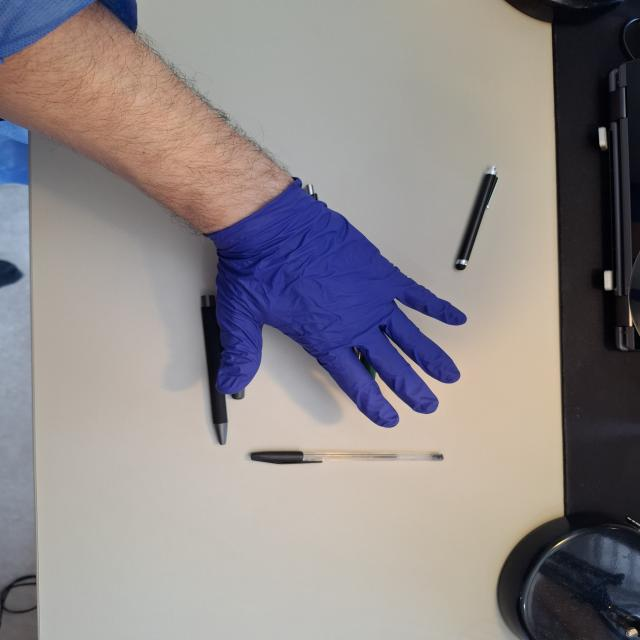glove_on: (204, 179, 471, 430)
